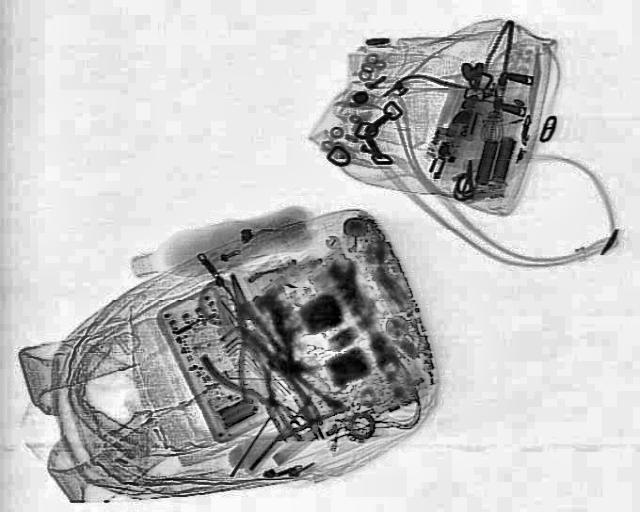Pliers: (199, 267, 307, 403), (192, 336, 318, 442)
